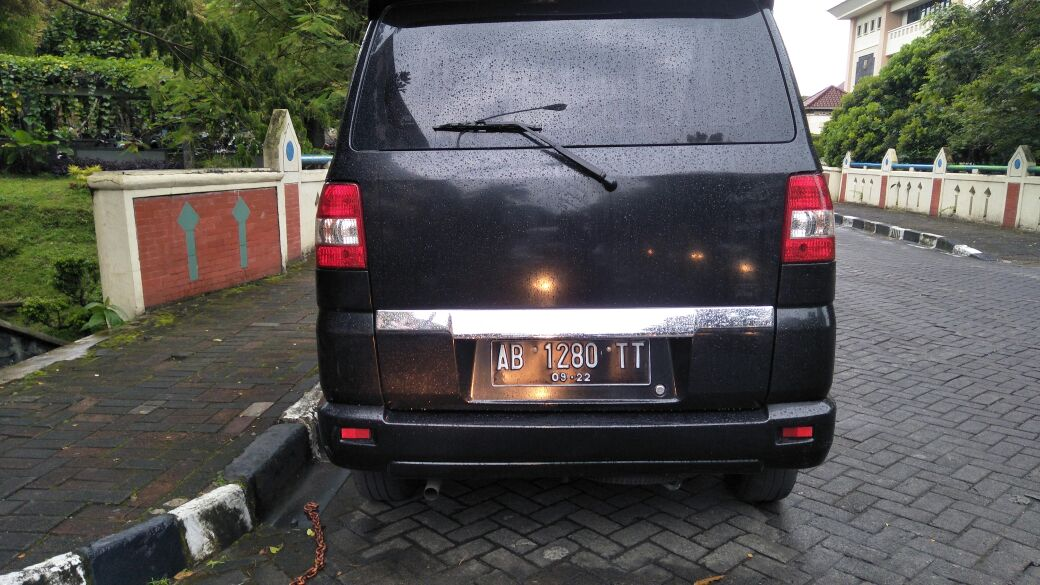plate: (487, 337, 653, 387)
